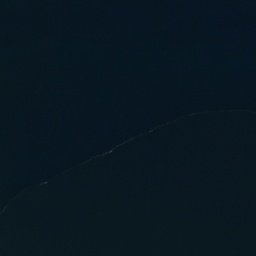Marine Debris: (80, 109, 256, 166), (39, 181, 49, 186)
